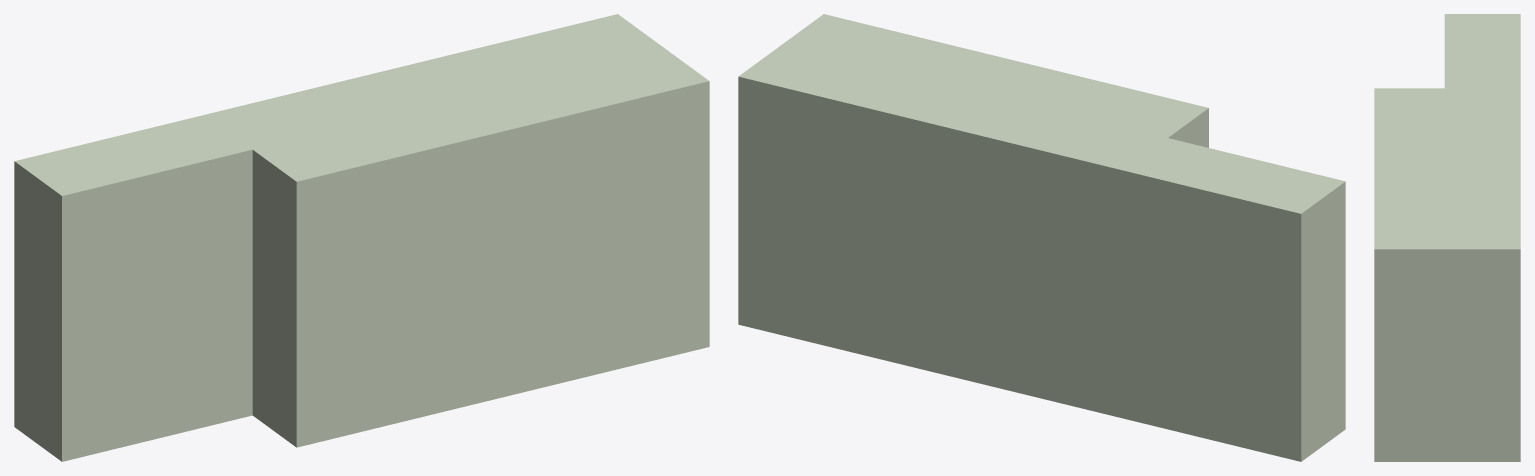
3 renders of one model, left to right at view 1: azimuth 30°, elevation 25°; view 2: azimuth 150°, elevation 25°; view 3: azimuth 270°, elevation 25°, orthographic. The views are drawn at different scales.
Visible parts, largest first — view 1: Group_10, Group_9, Group_7, Group_8, Group_6; view 2: Group_10, Group_9, Group_8, Group_6, Group_7; view 3: Group_10, Group_9.
Part boxes in pixels (x1,y1,x2,y2): Group_10: (205, 14, 709, 447); Group_9: (14, 115, 252, 262); Group_7: (14, 282, 252, 395); Group_8: (14, 349, 252, 461); Group_6: (14, 216, 252, 328); Group_10: (738, 14, 1208, 418); Group_9: (1123, 138, 1345, 275); Group_8: (1123, 356, 1345, 461); Group_6: (1123, 232, 1345, 337); Group_7: (1123, 294, 1345, 399); Group_10: (1374, 88, 1520, 461); Group_9: (1444, 14, 1520, 88).
Size of the model in its own units: 748 by 315 by 197.
